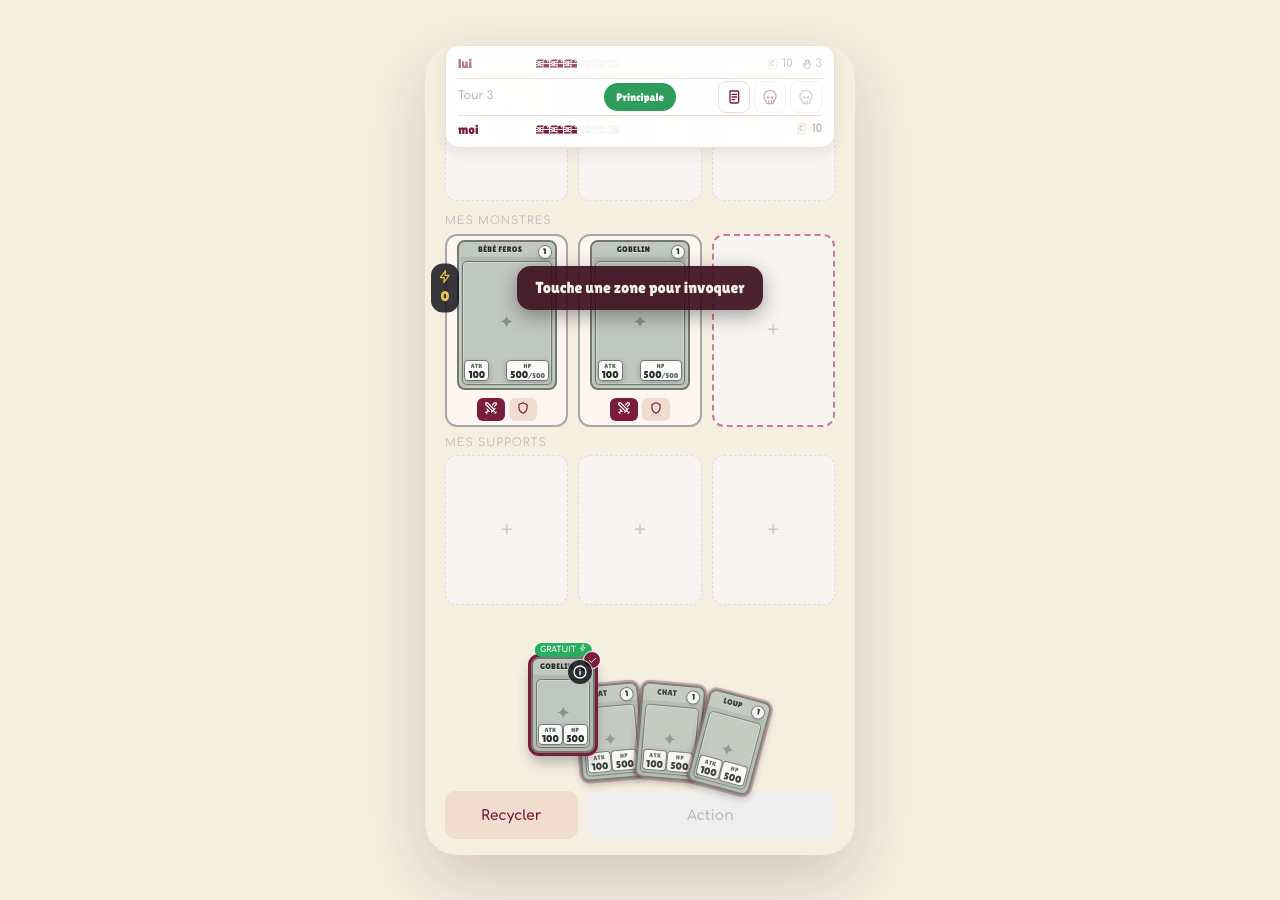
it: FightBoard — confirmations et recyclage rapide › la confirmation disparaît sans rien envoyer quand le tour change
(page scrolled)
Click the element with class "zr-zone" below "Mes Monstres": (773, 330) [712,234,835,426]
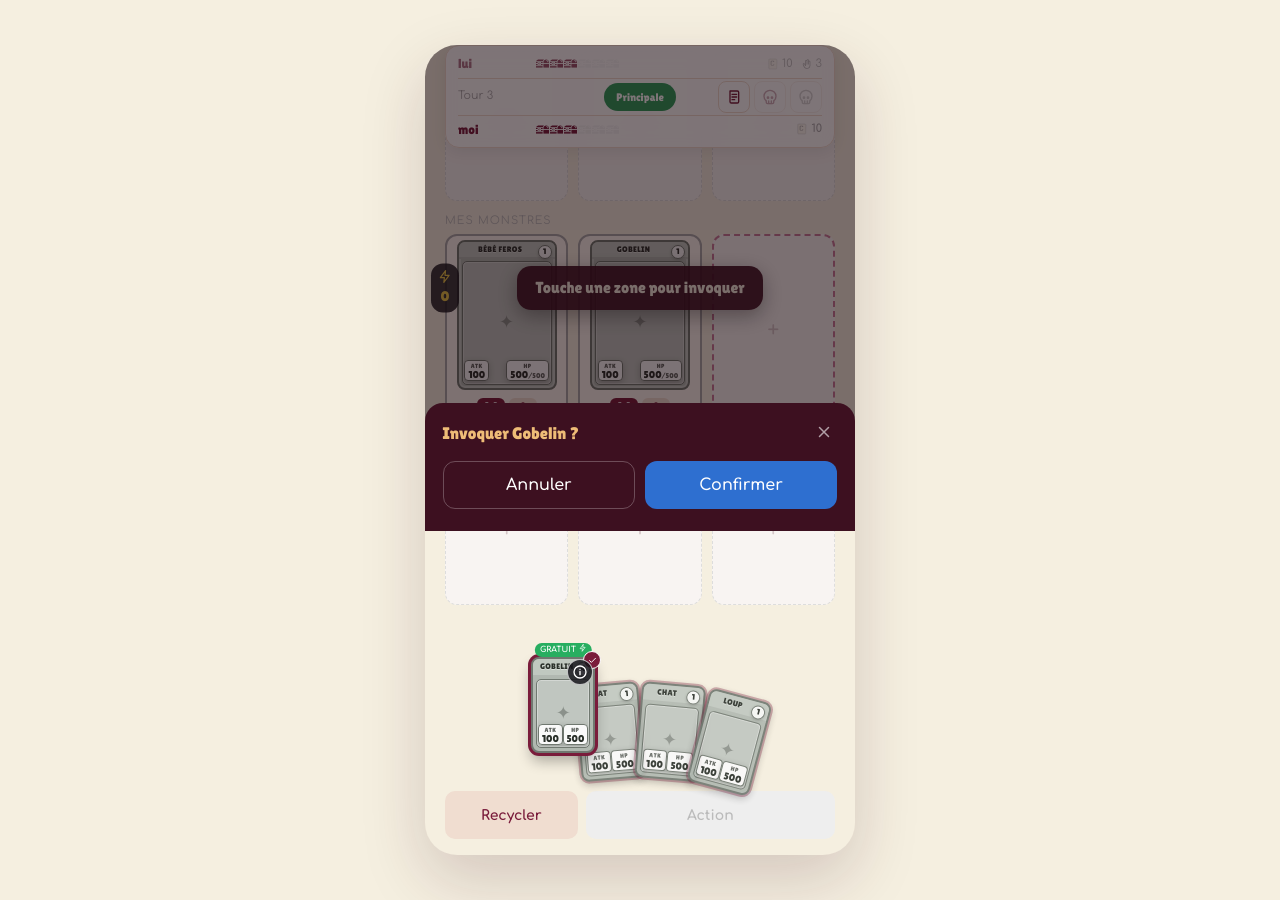
Result: the dialog is shown at [425,403,855,531]
